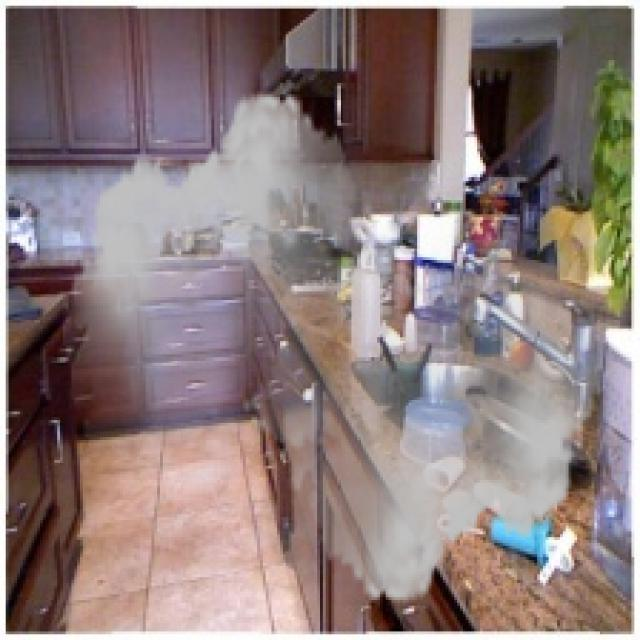smoke: (63, 74, 603, 620)
